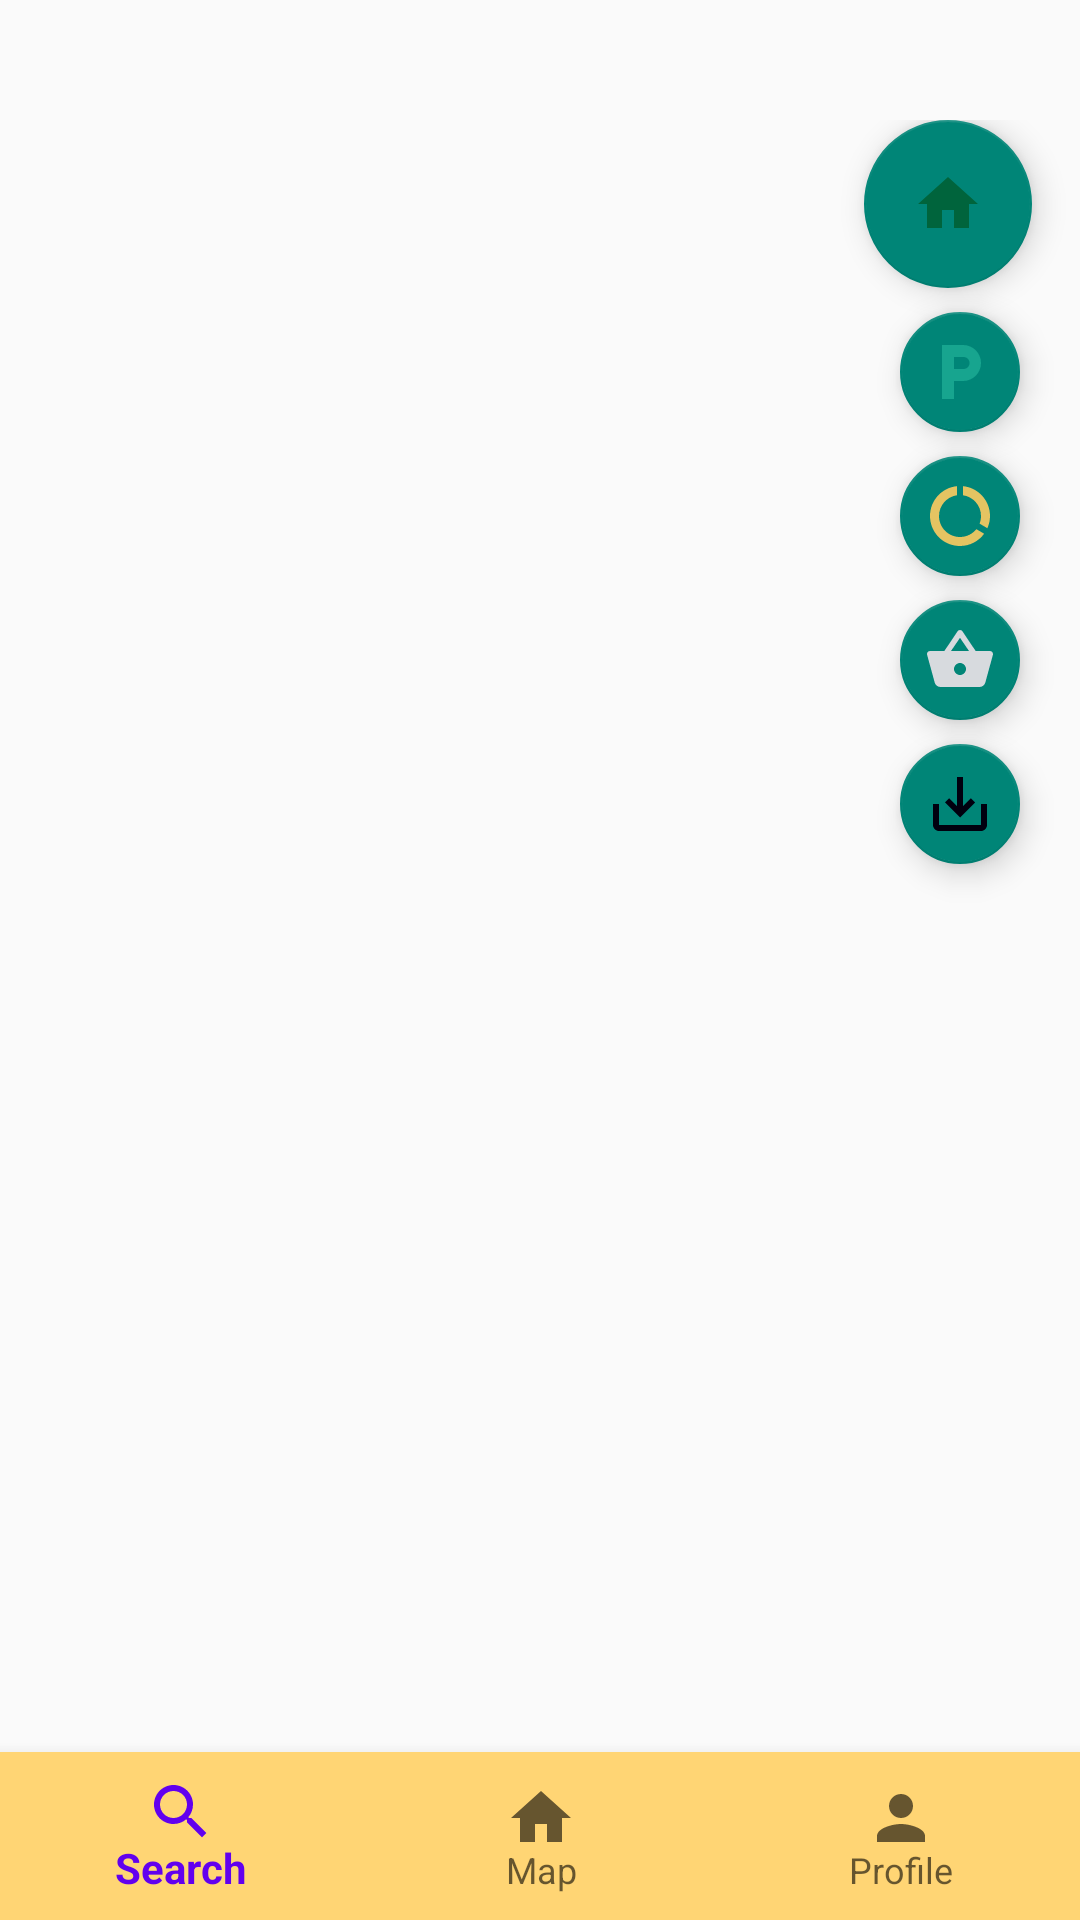

Where icons sit on this 1080px x 1920px app screen, as (x1, y1, x2, y2):
home: (864, 120, 1032, 288)
parking: (900, 312, 1020, 432)
save: (900, 744, 1020, 864)
store: (900, 600, 1020, 720)
